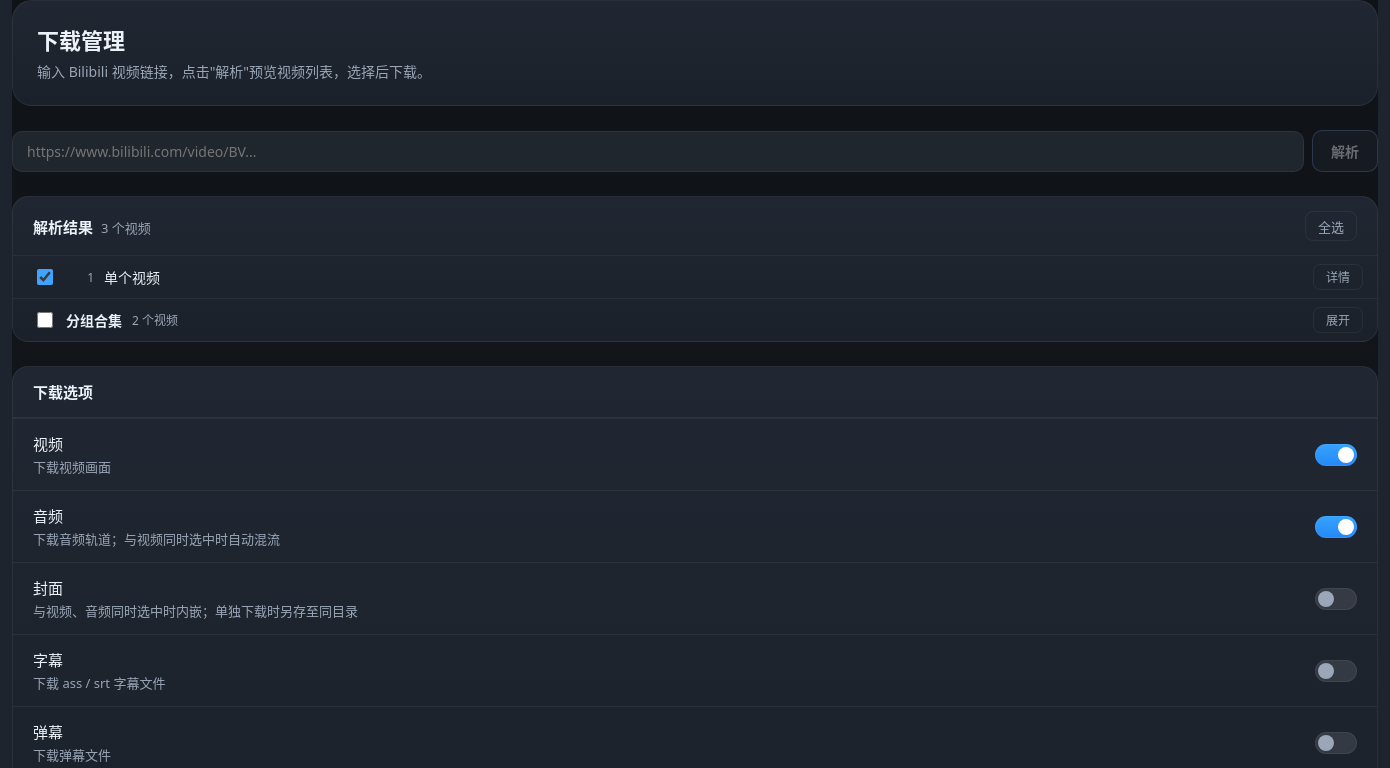
Test case: DownloadPage › renders grouped parse results collapsed by default and expands on demand
Expected: the text "单个视频" is shown, [104,267,160,287]
Expected: the text "分组合集" is shown, [66,310,122,330]
Click the button with aria-label "展开分组 分组合集" at (1338, 320), box [1313,307,1363,333]
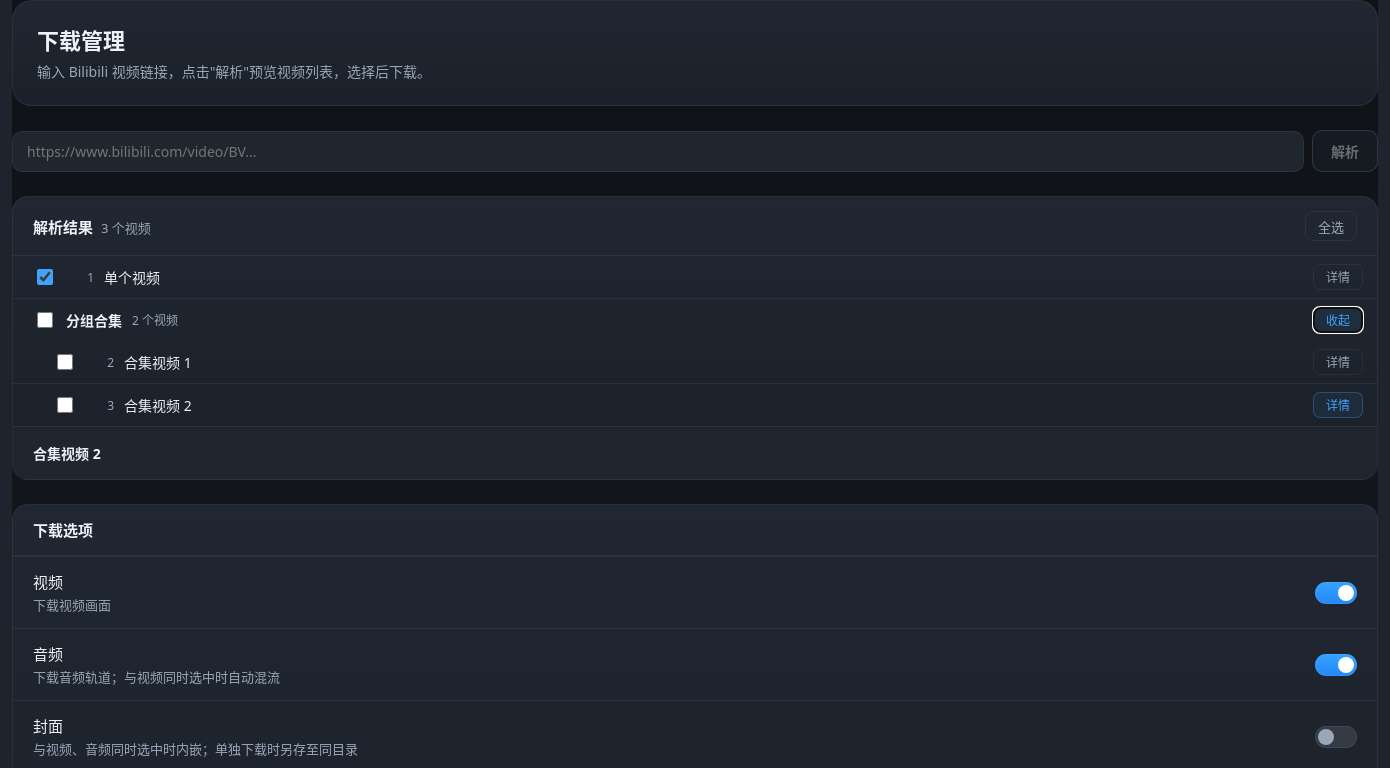
Expected: the text "合集视频 1" is shown, [124,352,192,372]
Expected: the 1st text "合集视频 2" is shown, [124,395,192,415]
